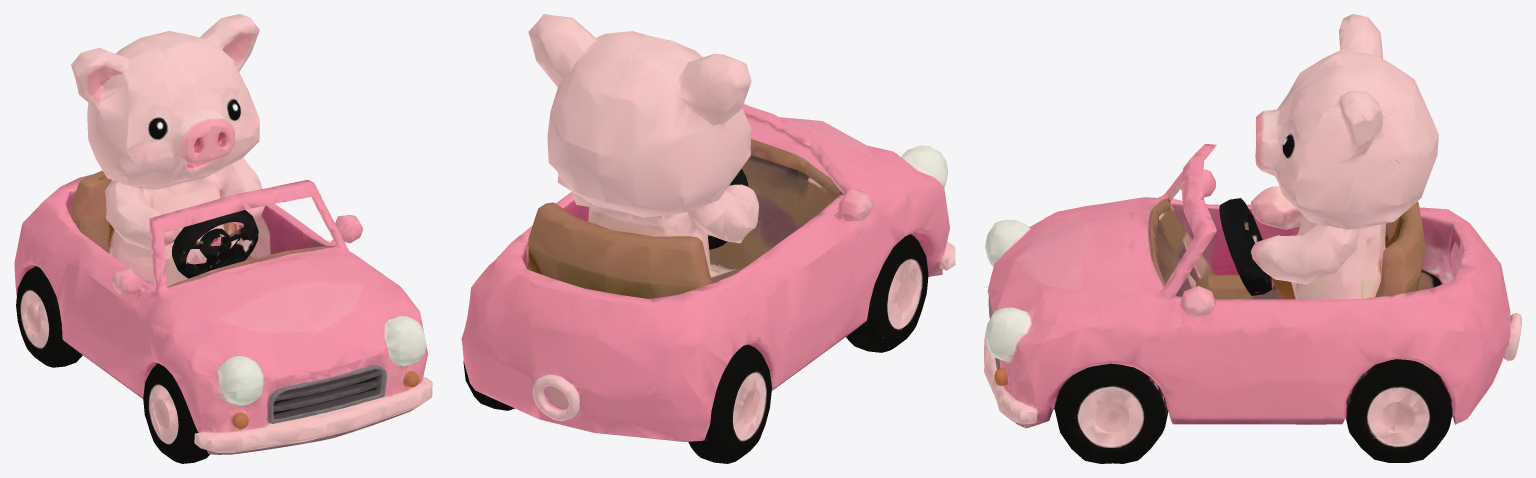
The model's file is cute-piglet-060436.glb.
The picture shows the model from 3 angles, left to right: view 1: azimuth 30°, elevation 25°; view 2: azimuth 150°, elevation 25°; view 3: azimuth 270°, elevation 25°; orthographic projection. The views are drawn at different scales.
Parts seen in each view (by area): view 1: mesh_node; view 2: mesh_node; view 3: mesh_node.
Part boxes in pixels (left/top/right/bottom): mesh_node: left=14, top=14, right=432, bottom=463; mesh_node: left=461, top=14, right=955, bottom=463; mesh_node: left=984, top=14, right=1521, bottom=463.
Bounding box in the file's own units: 1.1 × 1.37 × 1.9.
1 material, 1 textured.
